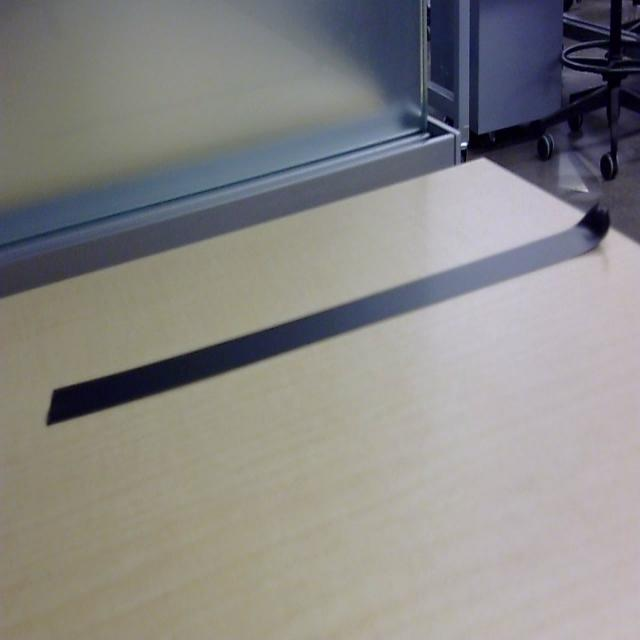tape: (18, 189, 625, 468)
